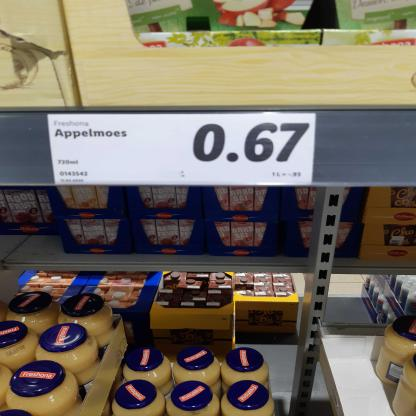prtg: (49, 114, 317, 188)
